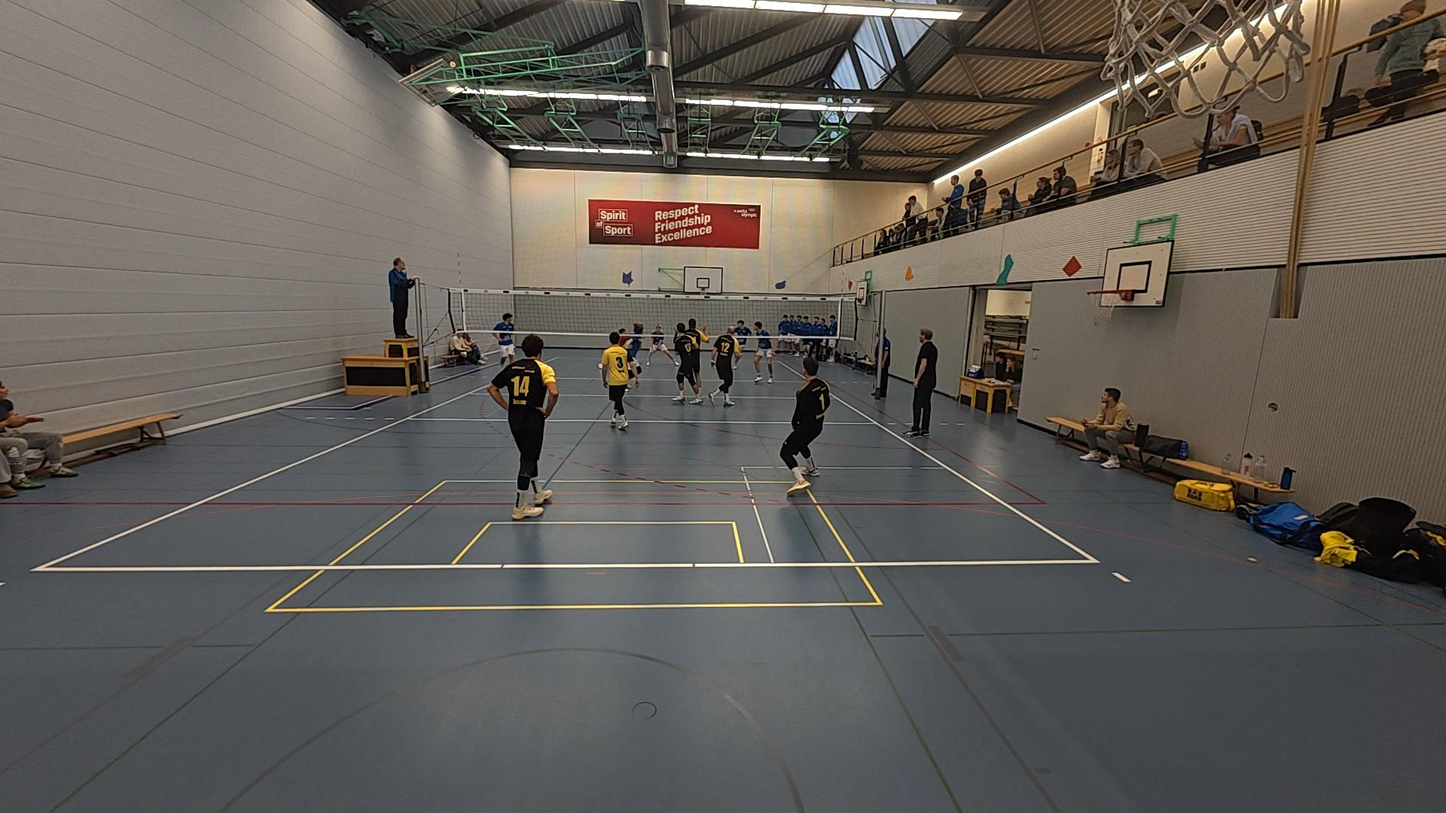Player: (486, 334, 560, 519), (781, 361, 830, 495), (602, 330, 639, 431), (673, 323, 704, 406), (706, 325, 737, 406), (753, 320, 777, 383), (597, 323, 627, 373)
Receive: (642, 322, 673, 368)
ball: (901, 264, 917, 281), (651, 333, 663, 349)
